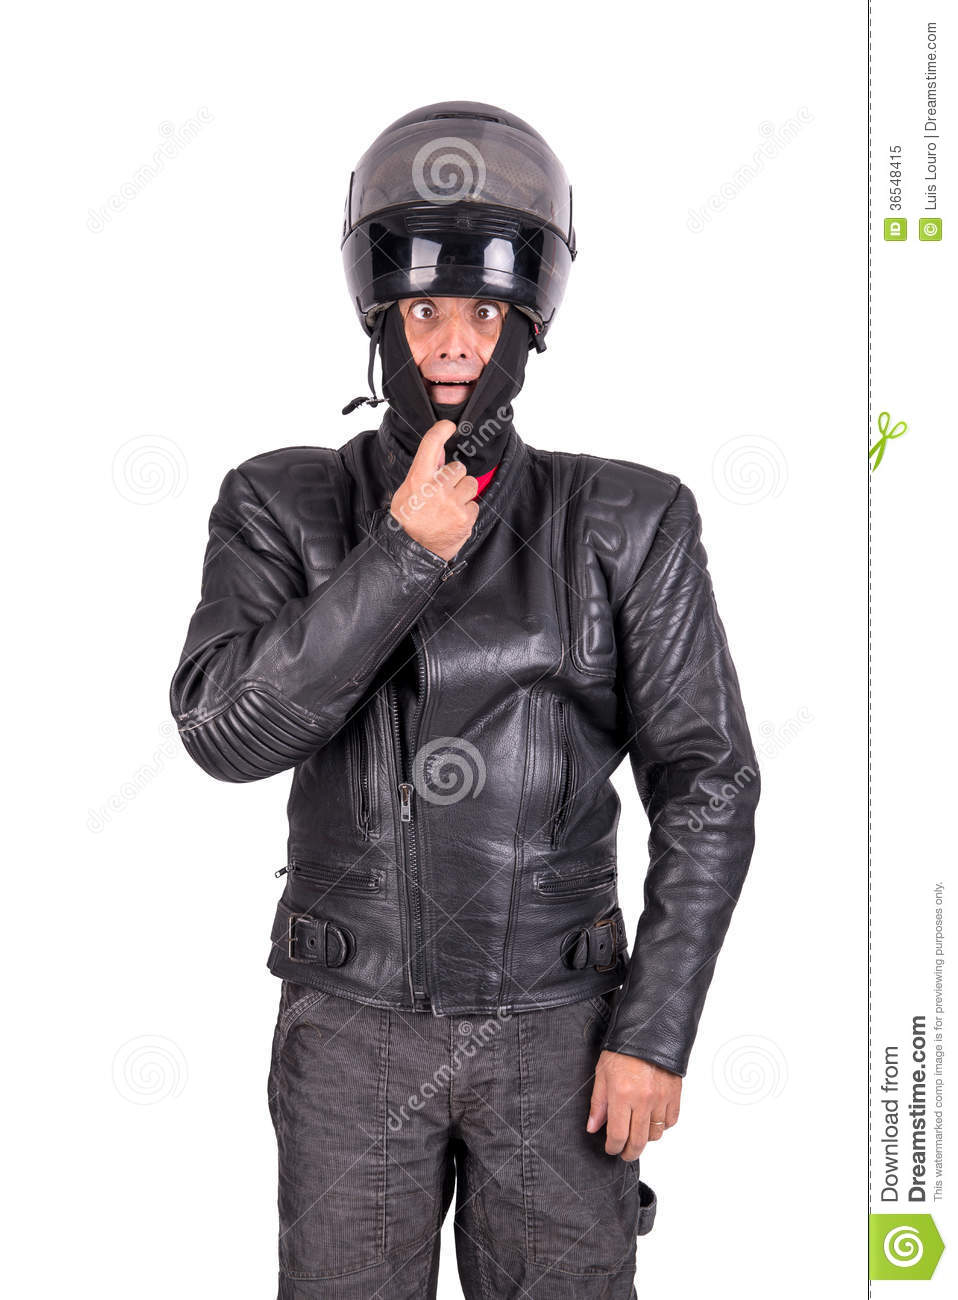helmet: (325, 111, 591, 301)
